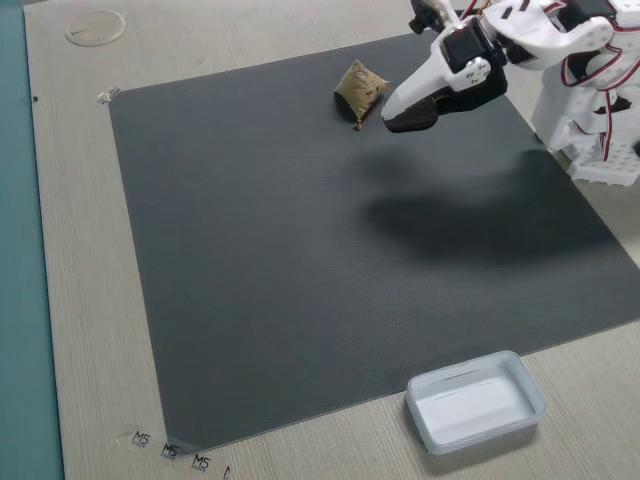gripper: (377, 6, 514, 123)
